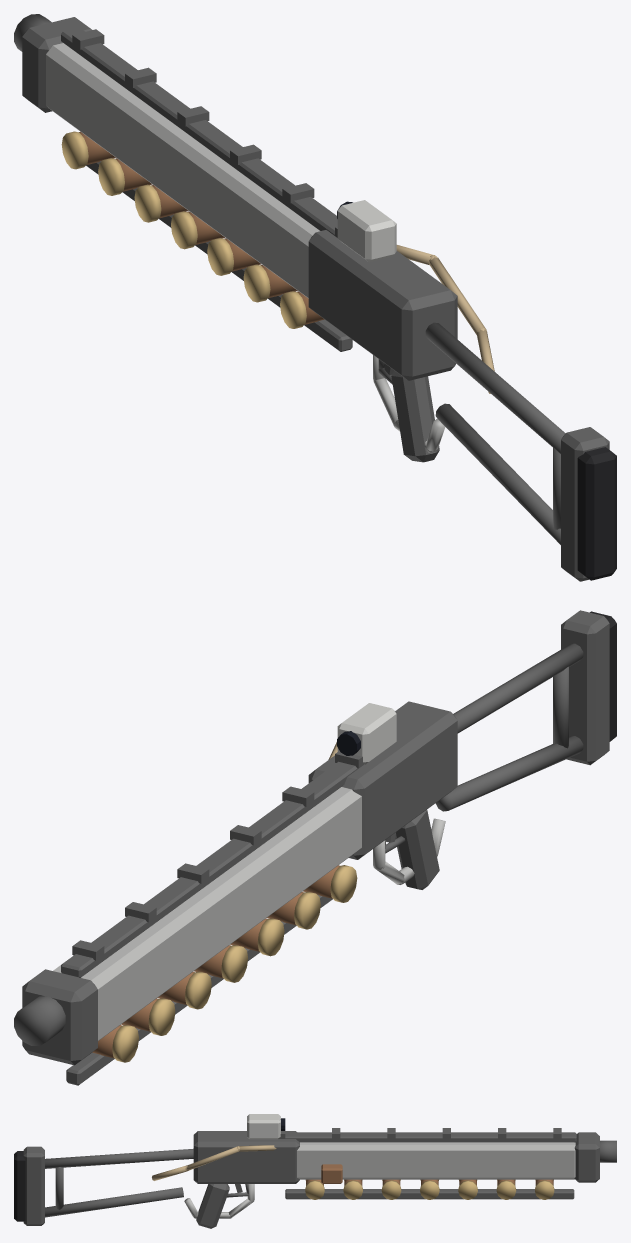
The model's file is shotgun.glb.
The picture shows the model from 3 angles, top to bottom: view 1: azimuth 30°, elevation 25°; view 2: azimuth 150°, elevation 25°; view 3: azimuth 270°, elevation 25°; orthographic projection. The views are drawn at different scales.
Parts seen in each view (by area): view 1: body, lever; view 2: body, lever; view 3: body, lever.
Boxes of the visible parts, bbox=[...] form: body: bbox=[14, 14, 616, 581]; lever: bbox=[373, 355, 445, 453]; body: bbox=[14, 610, 616, 1085]; lever: bbox=[373, 818, 445, 884]; body: bbox=[14, 1114, 616, 1228]; lever: bbox=[184, 1184, 254, 1218].
Bounding box in the file's own units: 0.1091 × 0.2867 × 1.42.
